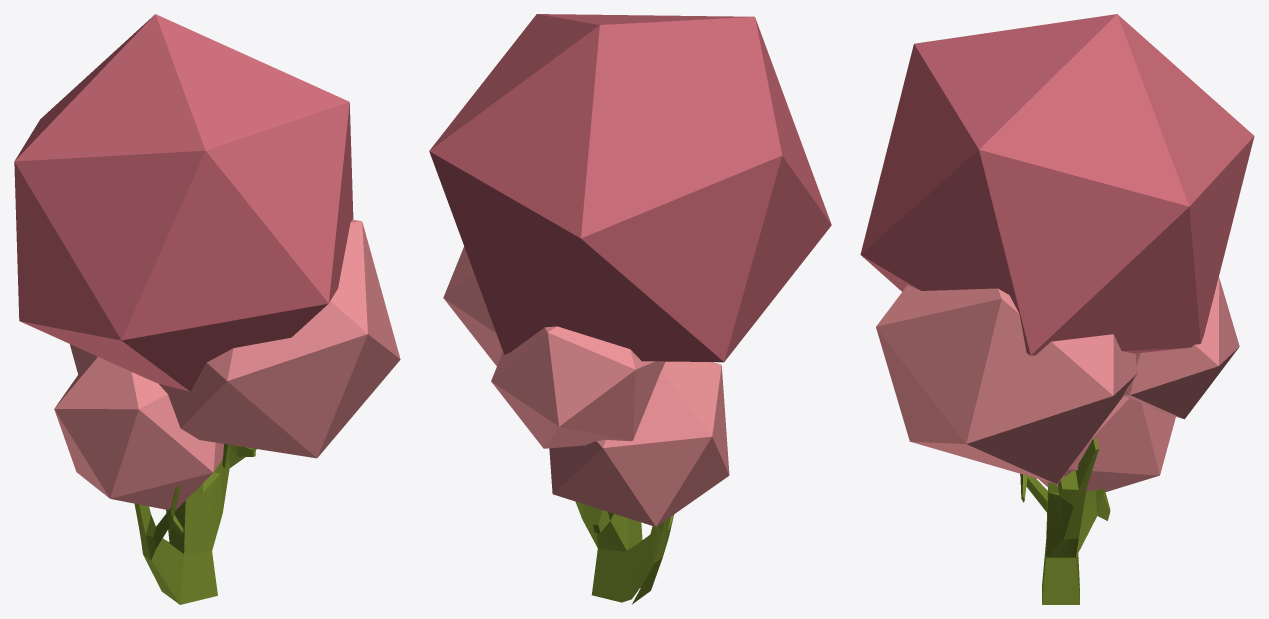
File: tree2.fbx
3 renders of one model, left to right at view 1: azimuth 30°, elevation 25°; view 2: azimuth 150°, elevation 25°; view 3: azimuth 270°, elevation 25°, orthographic. The views are drawn at different scales.
Visible parts, largest first — view 1: pPlatonic2, pPlatonic4, pPlatonic5, branch3; view 2: pPlatonic2, pPlatonic5, pPlatonic3, branch3, pPlatonic4; view 3: pPlatonic2, pPlatonic4, branch3, pPlatonic3, pPlatonic5.
Boxes of the visible parts, <box> form: pPlatonic2: <box>14,14,353,391</box>; pPlatonic4: <box>159,219,400,458</box>; pPlatonic5: <box>54,356,223,510</box>; branch3: <box>134,444,256,604</box>; pPlatonic2: <box>429,14,831,362</box>; pPlatonic5: <box>549,361,729,526</box>; pPlatonic3: <box>491,326,664,448</box>; branch3: <box>575,501,673,604</box>; pPlatonic4: <box>443,246,502,366</box>; pPlatonic2: <box>860,14,1254,355</box>; pPlatonic4: <box>876,285,1137,484</box>; branch3: <box>1020,409,1153,604</box>; pPlatonic3: <box>1123,277,1239,419</box>; pPlatonic5: <box>1038,396,1175,492</box>.
Size of the model in its own units: 605 by 987 by 610.
